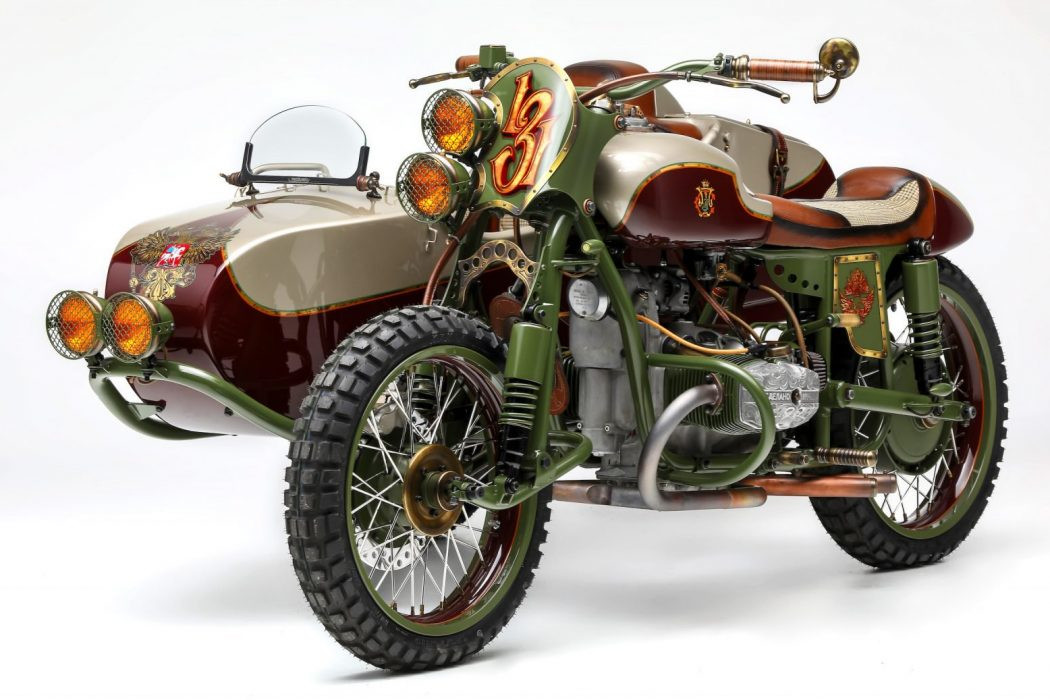bike: (44, 34, 1009, 673)
